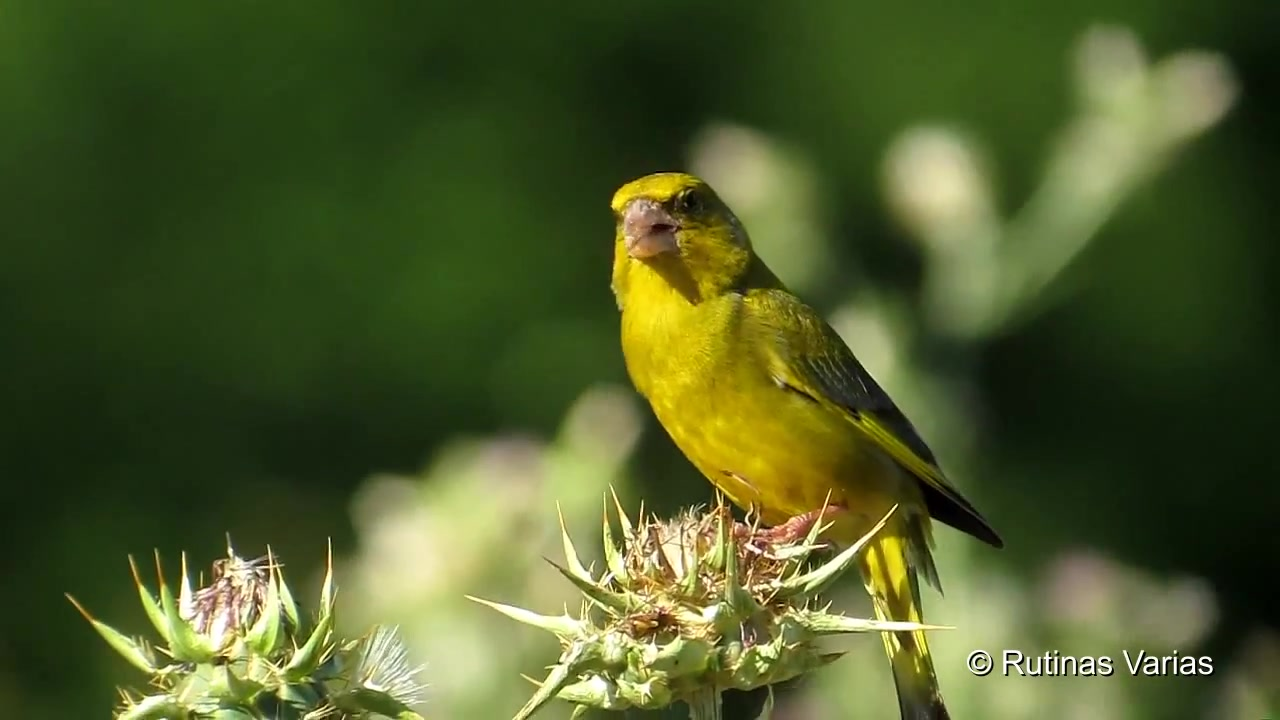bird: (608, 172, 1007, 720)
